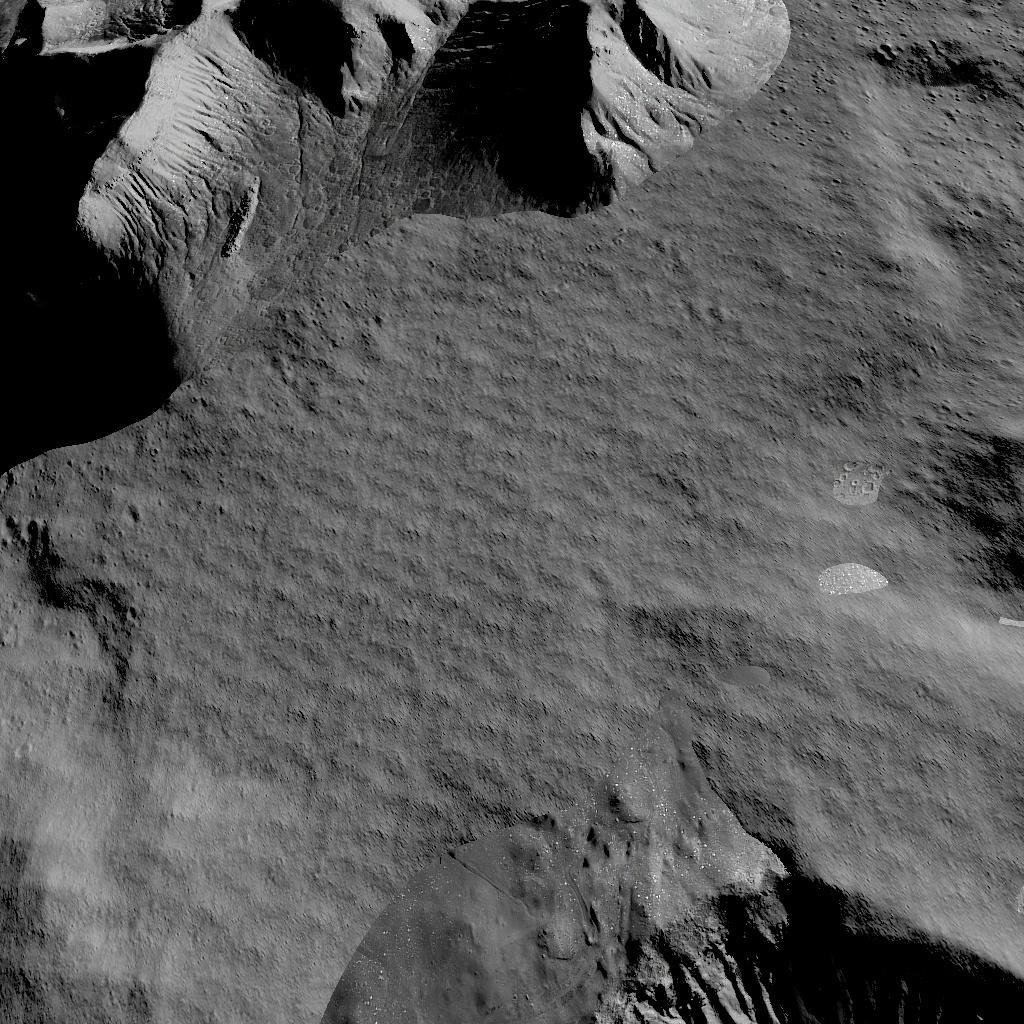Boulders: (0, 0, 788, 475)
Crater: (323, 802, 1024, 1024), (946, 428, 1024, 596), (856, 35, 1003, 103)
Plan surface: (324, 492, 932, 788), (0, 488, 308, 1024), (806, 118, 1024, 412)
